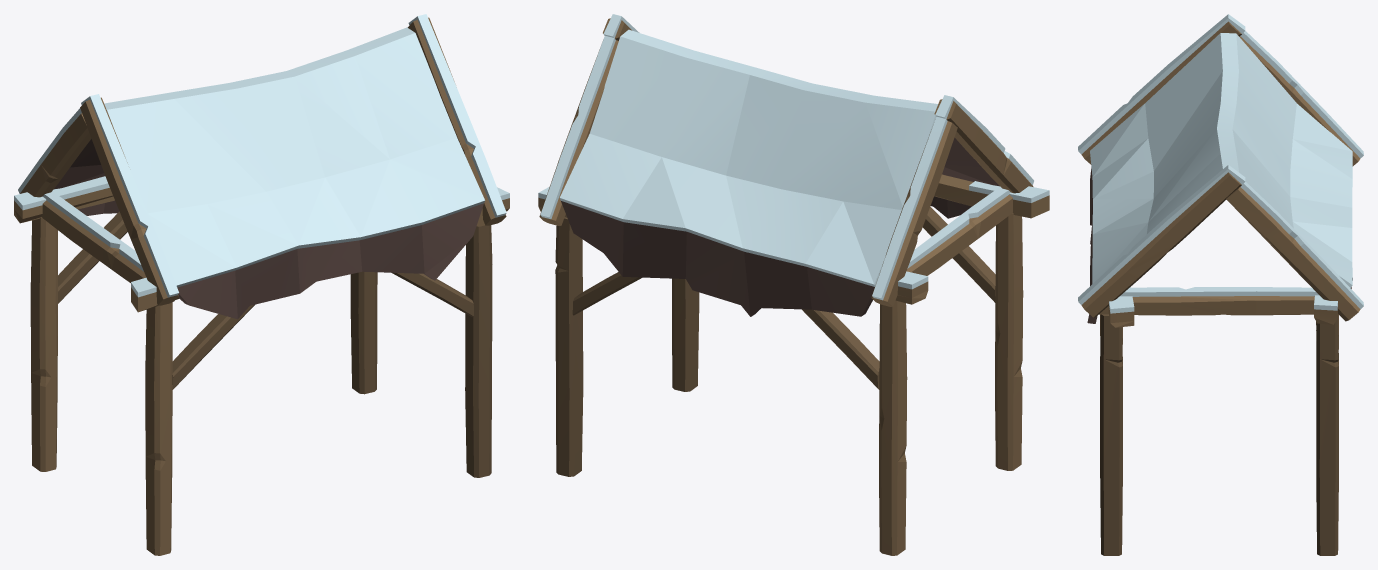
The model's file is Puesto_Mercante01.glb.
The picture shows the model from 3 angles, left to right: view 1: azimuth 30°, elevation 25°; view 2: azimuth 150°, elevation 25°; view 3: azimuth 270°, elevation 25°; orthographic projection. The views are drawn at different scales.
Parts seen in each view (by area): view 1: SM_Bld_Stall_Cover_01_Snow; view 2: SM_Bld_Stall_Cover_01_Snow; view 3: SM_Bld_Stall_Cover_01_Snow.
Part boxes in pixels (x1,y1,x2,y2): SM_Bld_Stall_Cover_01_Snow: [14, 14, 509, 555]; SM_Bld_Stall_Cover_01_Snow: [538, 14, 1049, 555]; SM_Bld_Stall_Cover_01_Snow: [1078, 14, 1363, 555].
Bounding box in the file's own units: 3.4 × 3.51 × 2.34.
Materials: 1 (1 with a texture image).
